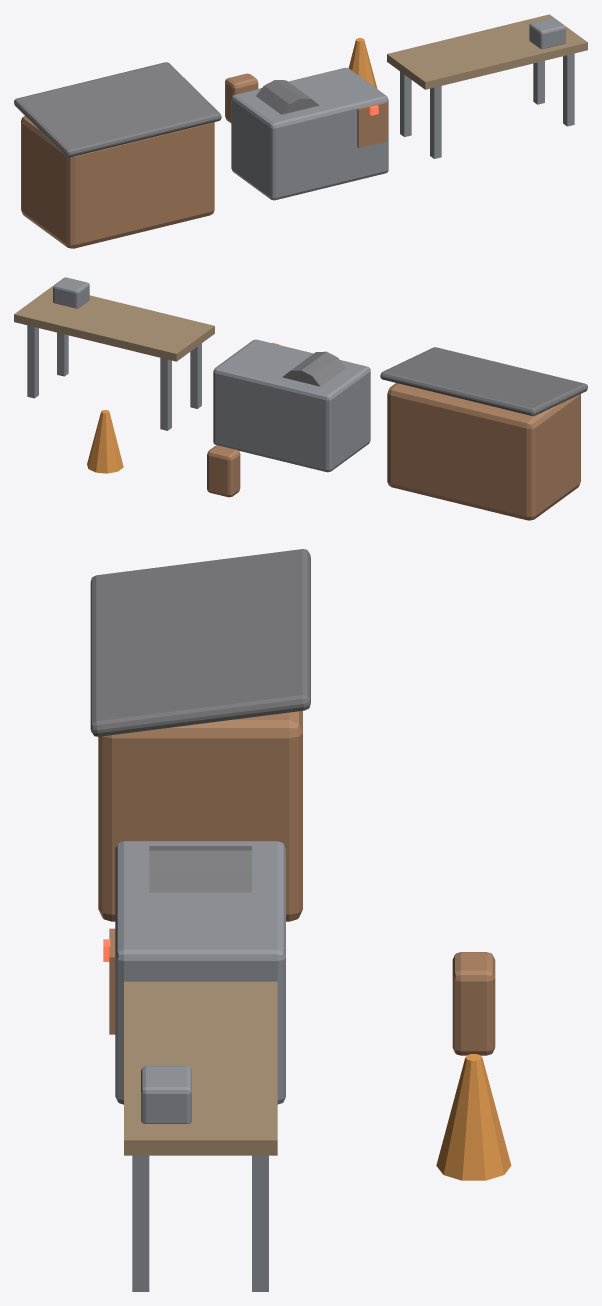
The model's file is prop_industrial.glb.
3 views of the same model, one above another, from view 1: azimuth 30°, elevation 25°; view 2: azimuth 150°, elevation 25°; view 3: azimuth 270°, elevation 25° (orthographic). The views are drawn at different scales.
Parts seen in each view (by area): view 1: prop_industrial; view 2: prop_industrial; view 3: prop_industrial.
Boxes of the visible parts, box(x1,y1,x2,y2) form: prop_industrial: box(14, 14, 587, 248); prop_industrial: box(14, 277, 587, 520); prop_industrial: box(90, 549, 511, 1291).
Bounding box in the file's own units: 7.15 × 1.55 × 2.47.
